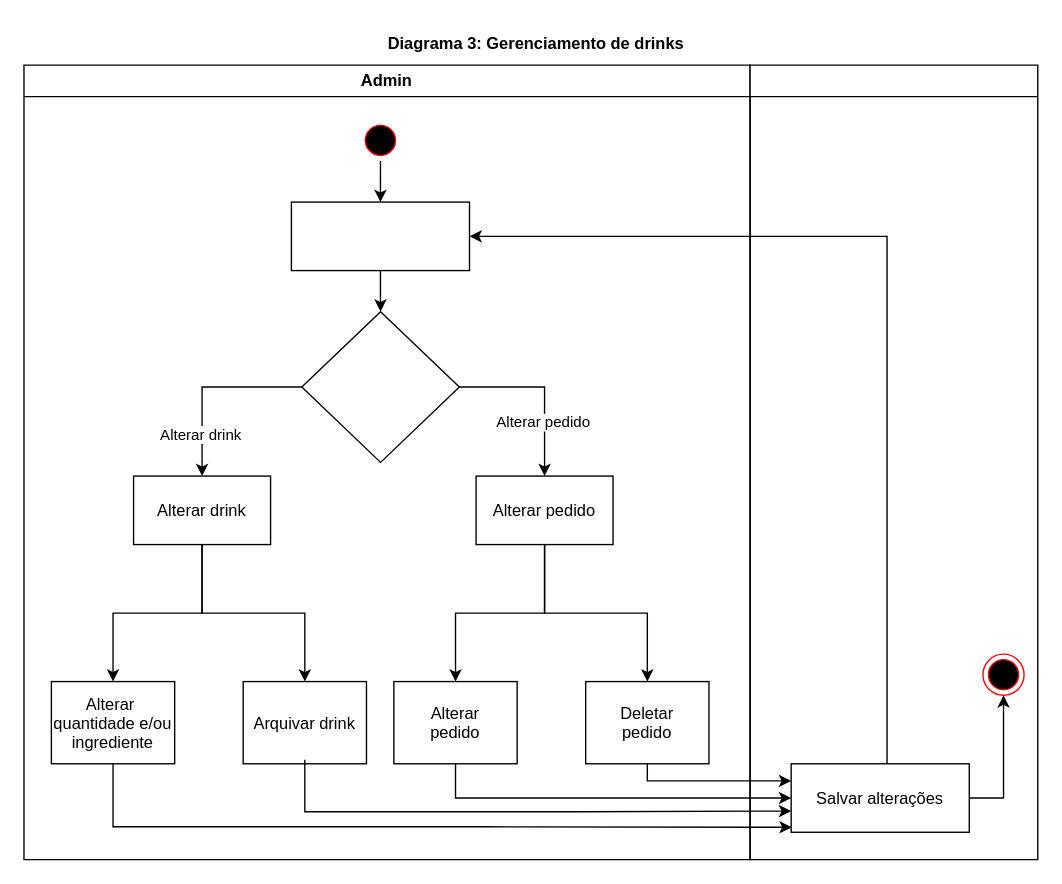
This 1062x884 diagram has some shape labels left out. The box of each missing label's shape, as (x1, y1, x2, y2) in pixels:
Escolha da ação: (300, 310, 459, 462)
System: (749, 64, 1038, 860)
Visualizar inventório: (290, 201, 469, 271)
